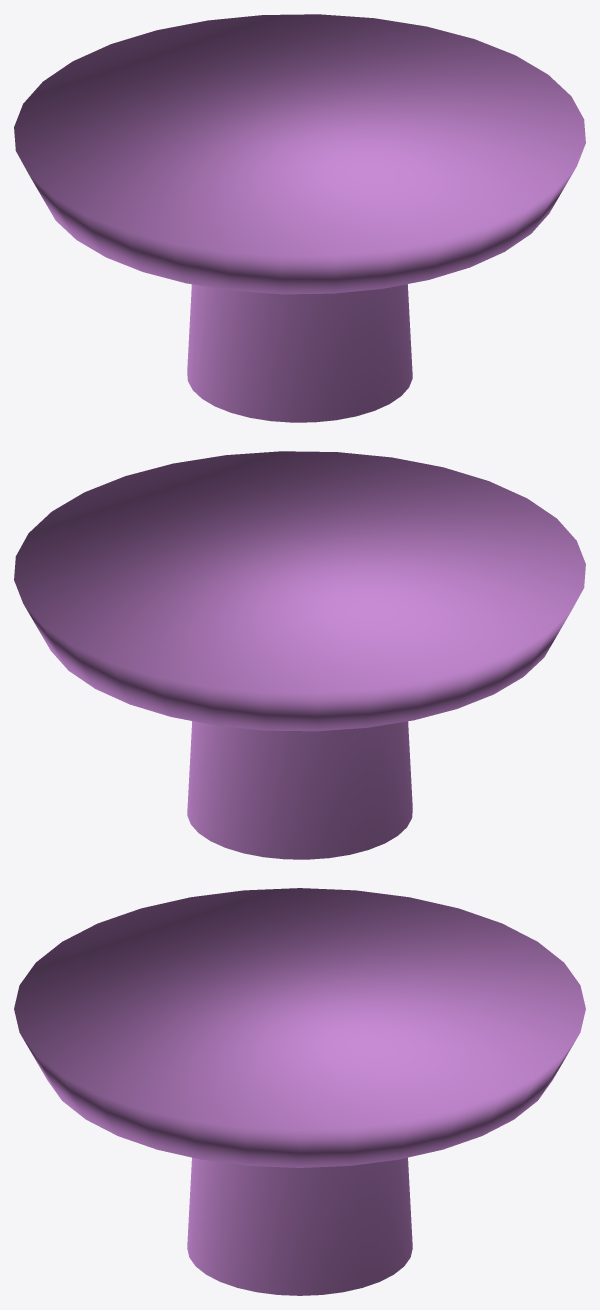
Rendered from ExportedBlenderFBXFile.fbx.
The picture shows the model from 3 angles, top to bottom: view 1: azimuth 30°, elevation 25°; view 2: azimuth 150°, elevation 25°; view 3: azimuth 270°, elevation 25°; orthographic projection.
Parts seen in each view (by area): view 1: Cylinder; view 2: Cylinder; view 3: Cylinder.
Boxes of the visible parts, box(x1,y1,x2,y2) form: Cylinder: box(14, 14, 585, 422); Cylinder: box(14, 451, 585, 859); Cylinder: box(14, 888, 585, 1295).
Bounding box in the file's own units: 2.92 × 1.35 × 2.92.
